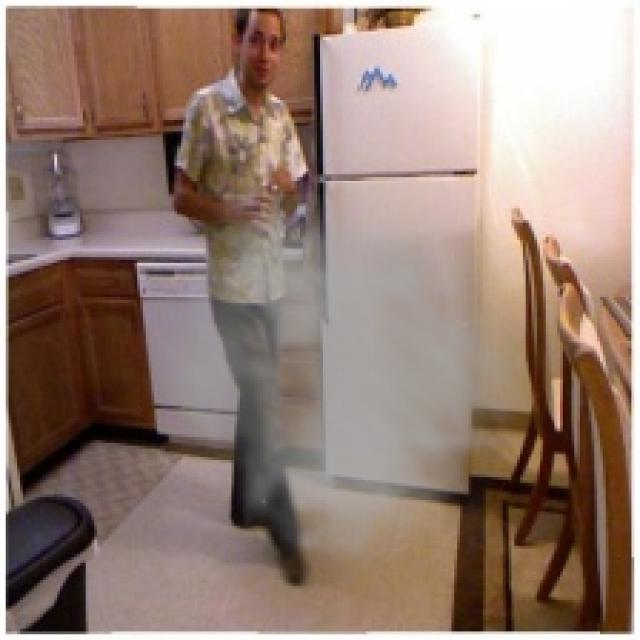smoke: (131, 194, 546, 603)
